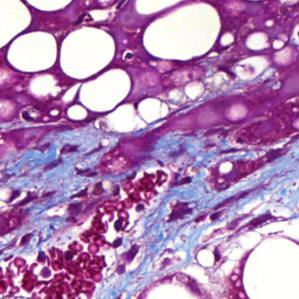steatosis: (62, 28, 115, 82), (12, 29, 55, 82)
